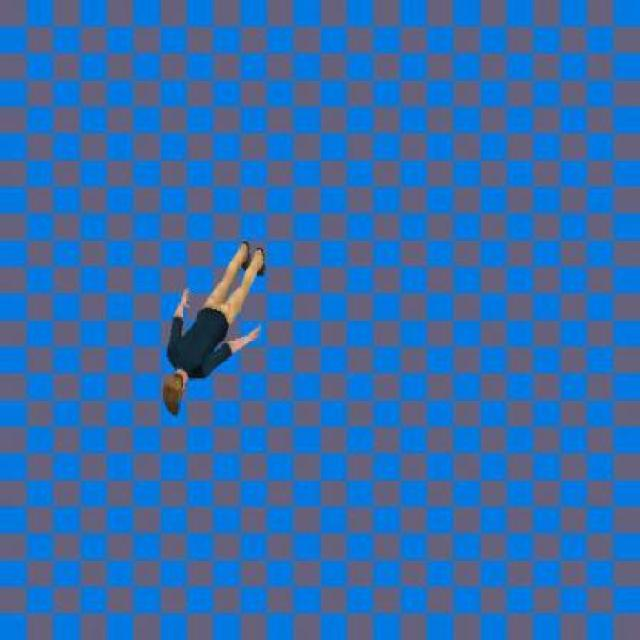Person: (158, 233, 270, 416)
